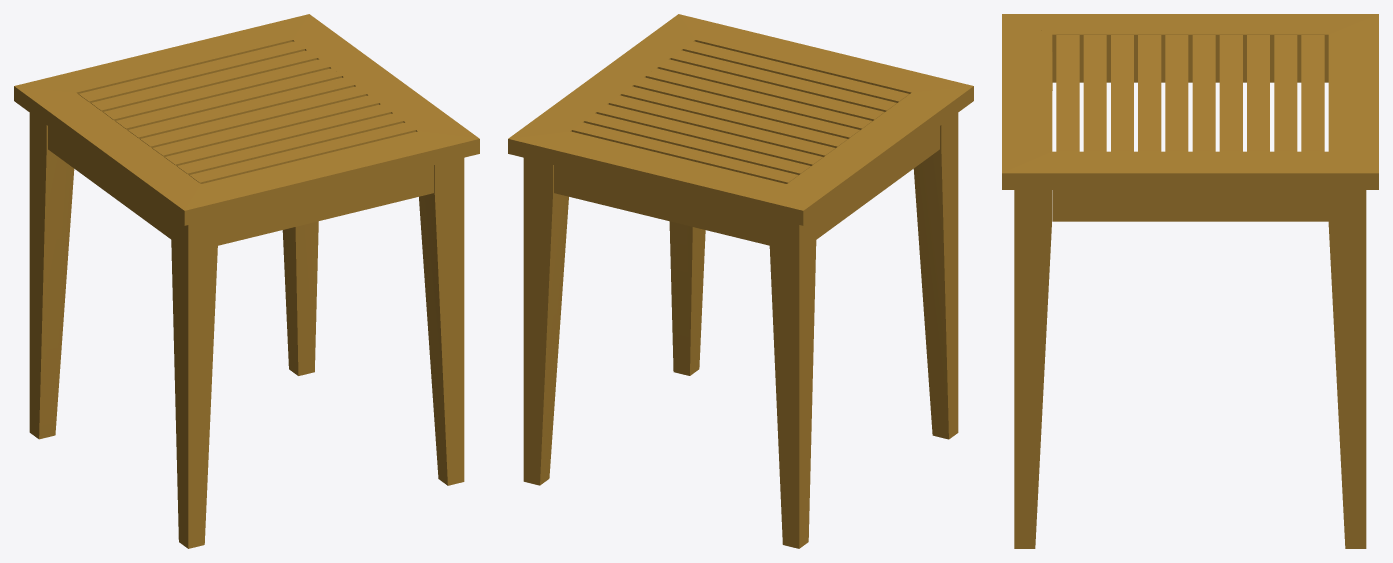
3 renders of one model, left to right at view 1: azimuth 30°, elevation 25°; view 2: azimuth 150°, elevation 25°; view 3: azimuth 270°, elevation 25°, orthographic. The views are drawn at different scales.
Visible parts, largest first — view 1: Group_21 (×4), Group_23 (×4), Group_18 (×10), Group_32 (×2); view 2: Group_21 (×4), Group_23 (×4), Group_18 (×10), Group_32 (×2); view 3: Group_23 (×4), Group_18 (×10), Group_21 (×2), Group_32 (×2).
Part boxes in pixels (box(x1,y1,x2,y2)): Group_21 (×4): box(29, 113, 464, 548); Group_23 (×4): box(14, 14, 479, 225); Group_18 (×10): box(78, 41, 415, 183); Group_32 (×2): box(48, 126, 433, 245); Group_21 (×4): box(523, 113, 958, 548); Group_23 (×4): box(508, 14, 973, 225); Group_18 (×10): box(572, 41, 909, 183); Group_32 (×2): box(554, 126, 939, 245); Group_23 (×4): box(1002, 14, 1378, 189); Group_18 (×10): box(1056, 35, 1324, 151); Group_21 (×2): box(1014, 190, 1366, 548); Group_32 (×2): box(1052, 52, 1328, 221).
Size of the model in its own units: 22.5 by 22.5 by 25.13.
